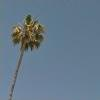Tree: (10, 7, 60, 61)
